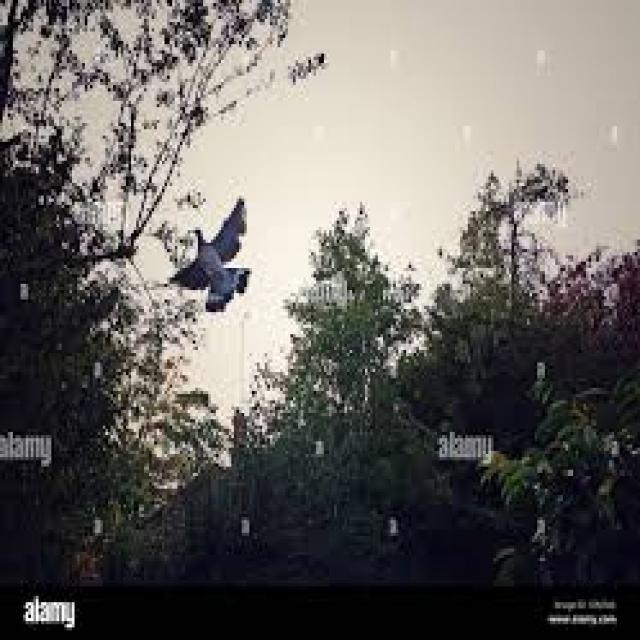bird: (140, 158, 315, 384)
